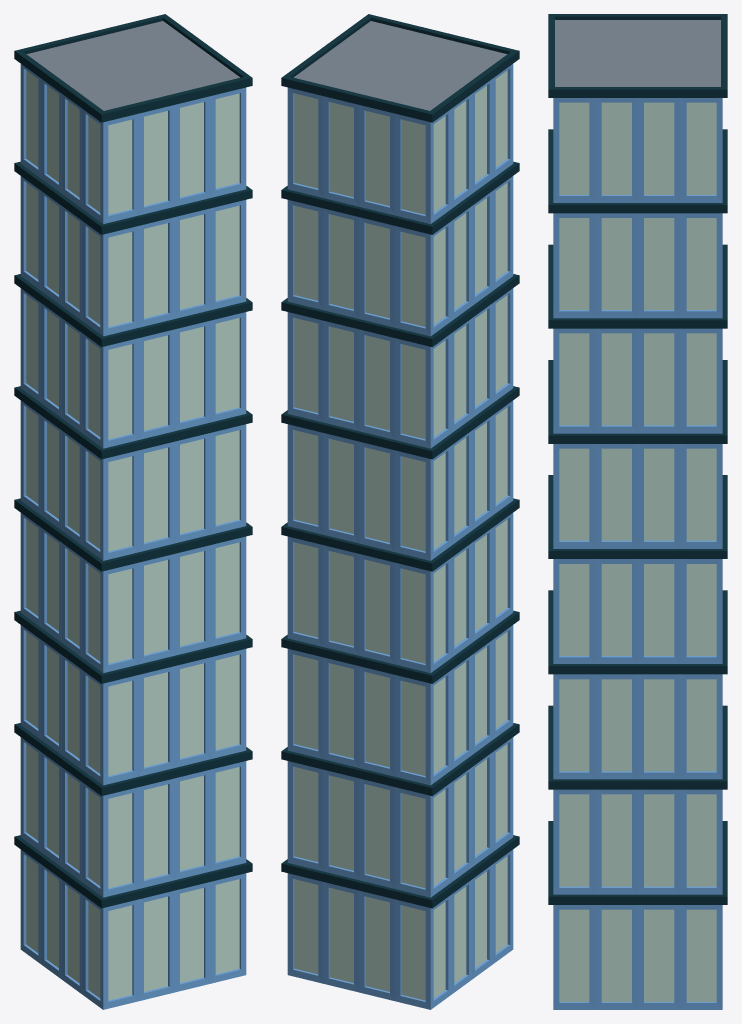
File: Skyscraper04.fbx
3 renders of one model, left to right at view 1: azimuth 30°, elevation 25°; view 2: azimuth 150°, elevation 25°; view 3: azimuth 270°, elevation 25°, orthographic. The views are drawn at different scales.
Visible parts, largest first — view 1: Skyscraper04; view 2: Skyscraper04; view 3: Skyscraper04.
Boxes of the visible parts, x1,y1,x2,y2 form: Skyscraper04: (14, 14, 252, 1009); Skyscraper04: (281, 14, 519, 1009); Skyscraper04: (548, 14, 727, 1009).
Bounding box in the file's own units: 422 × 2400 × 422.
